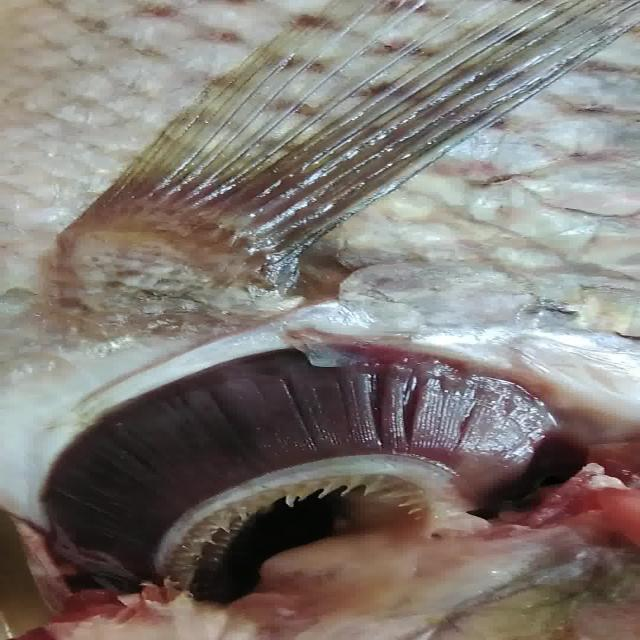Non-Fresh: (31, 343, 576, 559)
